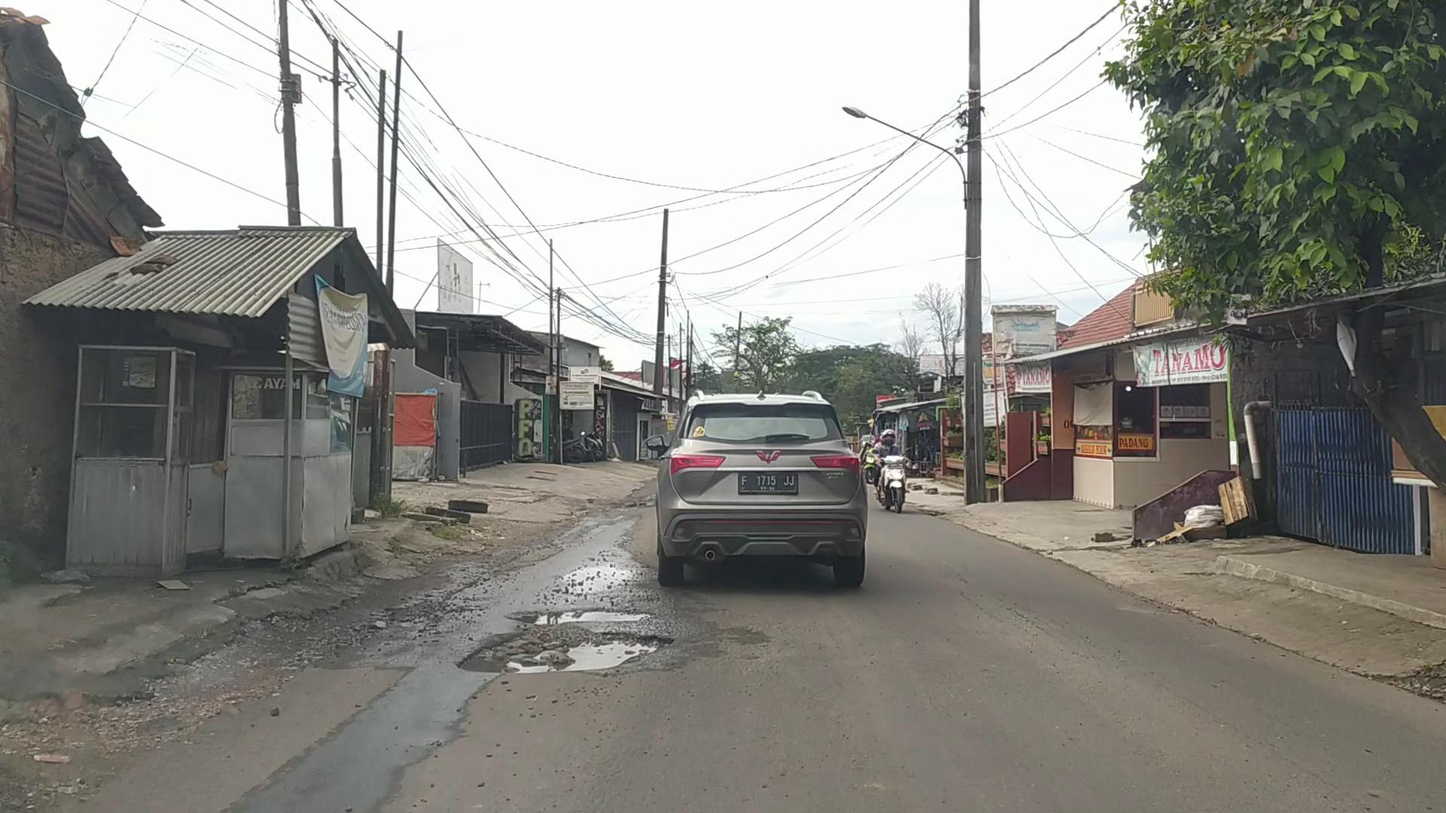pothole: (445, 628, 676, 677), (508, 606, 655, 627)
